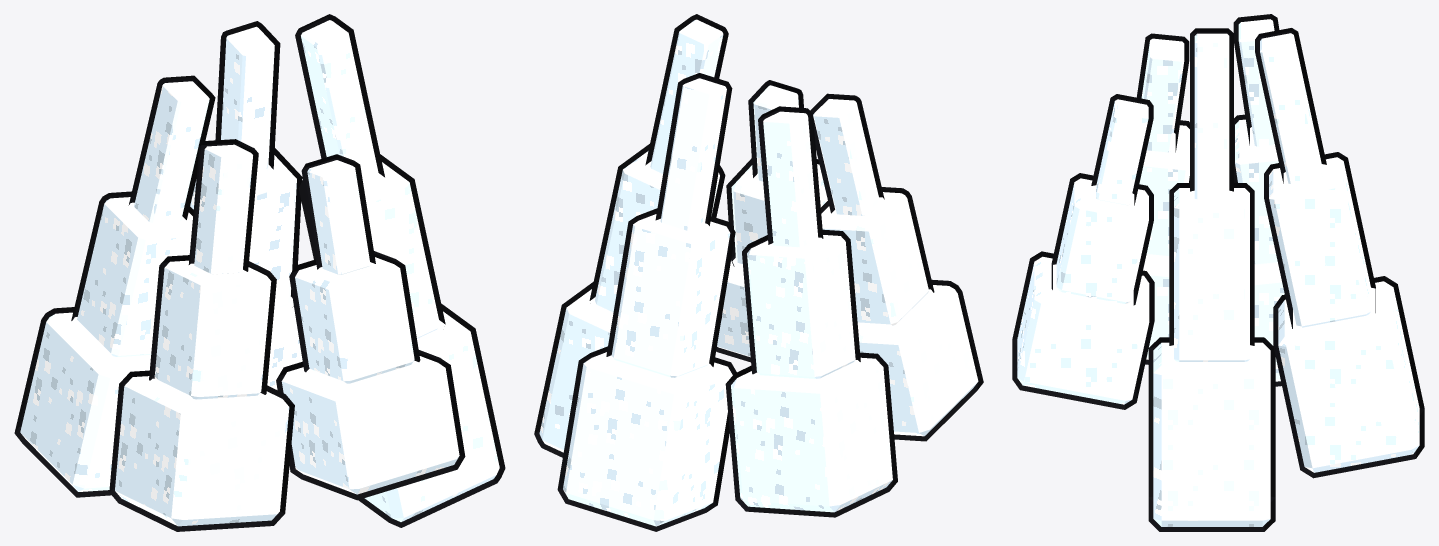
The model's file is env_snow_ice_spike.glb.
3 renders of one model, left to right at view 1: azimuth 30°, elevation 25°; view 2: azimuth 150°, elevation 25°; view 3: azimuth 270°, elevation 25°, orthographic. The views are drawn at different scales.
Parts seen in each view (by area): view 1: model; view 2: model; view 3: model.
Boxes of the visible parts, x1,y1,x2,y2 form: model: (14,14,505,531); model: (534,14,983,531); model: (1012,14,1424,531).
Size of the model in its own units: 1.27 by 1.55 by 1.27.
Materials: 2 (1 with a texture image).
